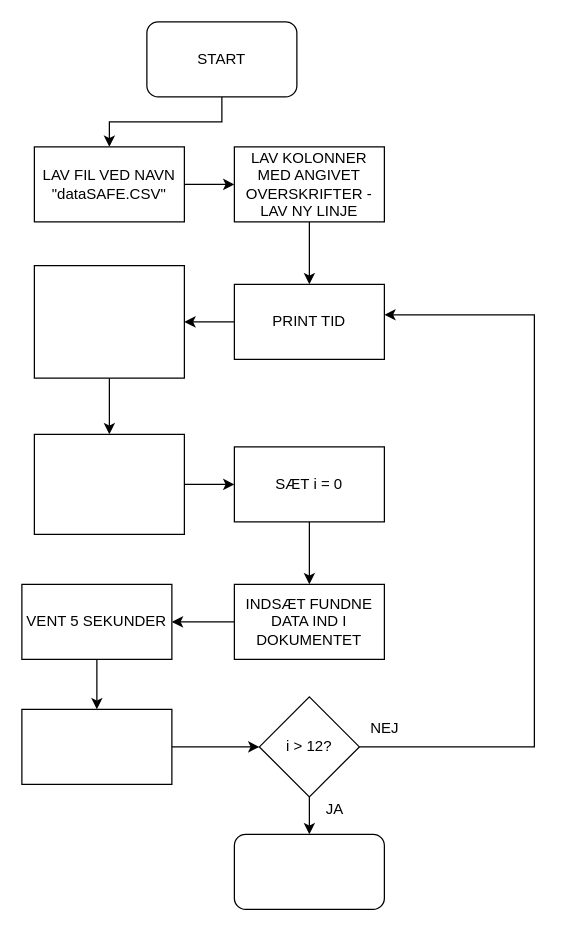
Some shapes in this 566 by 931 pixel diagram are drawn without their labels. Here are the shapes that lost their labels. From the top down, the box of each, then its label:
(33, 264, 184, 378): FIND ACCELERATION I X-,Y- OG Z-AKSE. FIND SAMLET ACCELERATION VHA. DISSE
(33, 433, 184, 534): FIND LOKATION ANGIVET I BREDDEGRADER
(21, 708, 172, 784): i + 1
(233, 833, 384, 909): STOP
